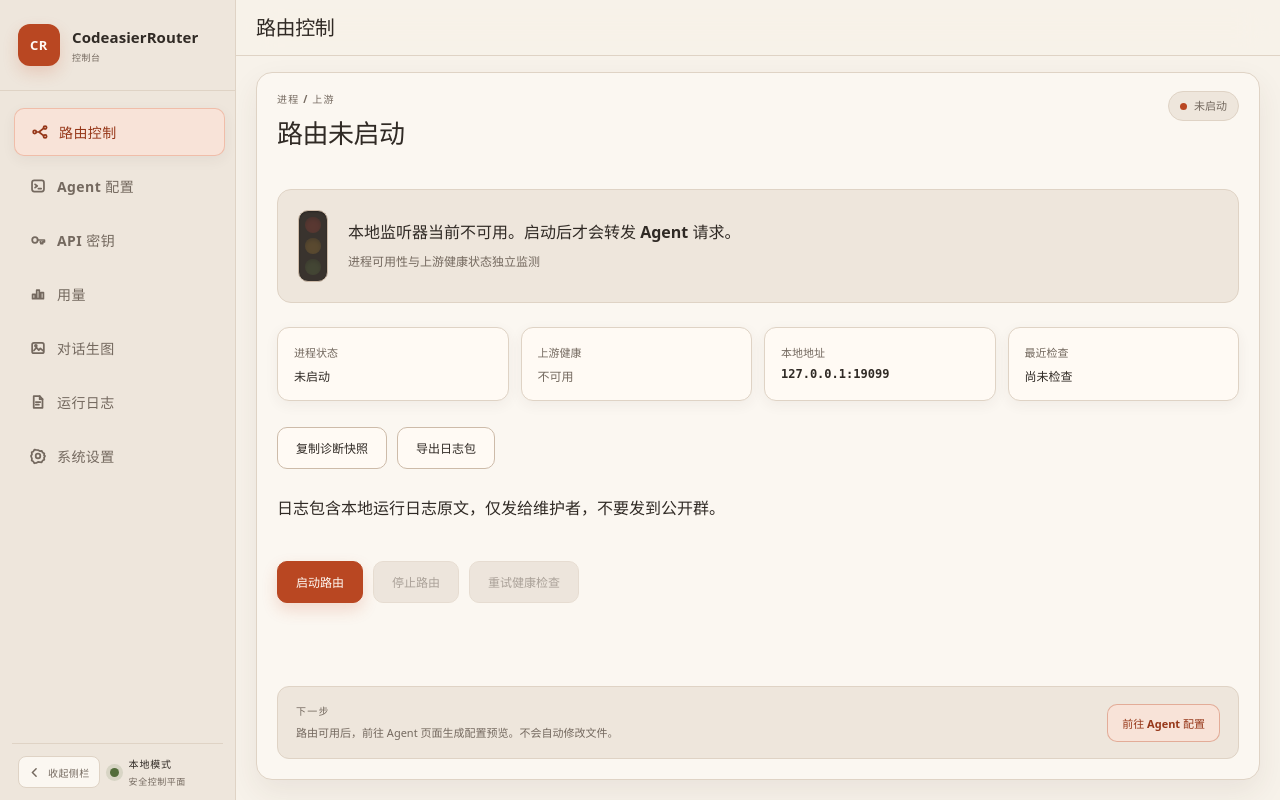
Test case: SettingsPage › shows one application version and application locations without sensitive controls
Click the button "系统设置".
click(118, 456)  # box top-left (12, 432), bottom-right (223, 480)
(page scrolled)
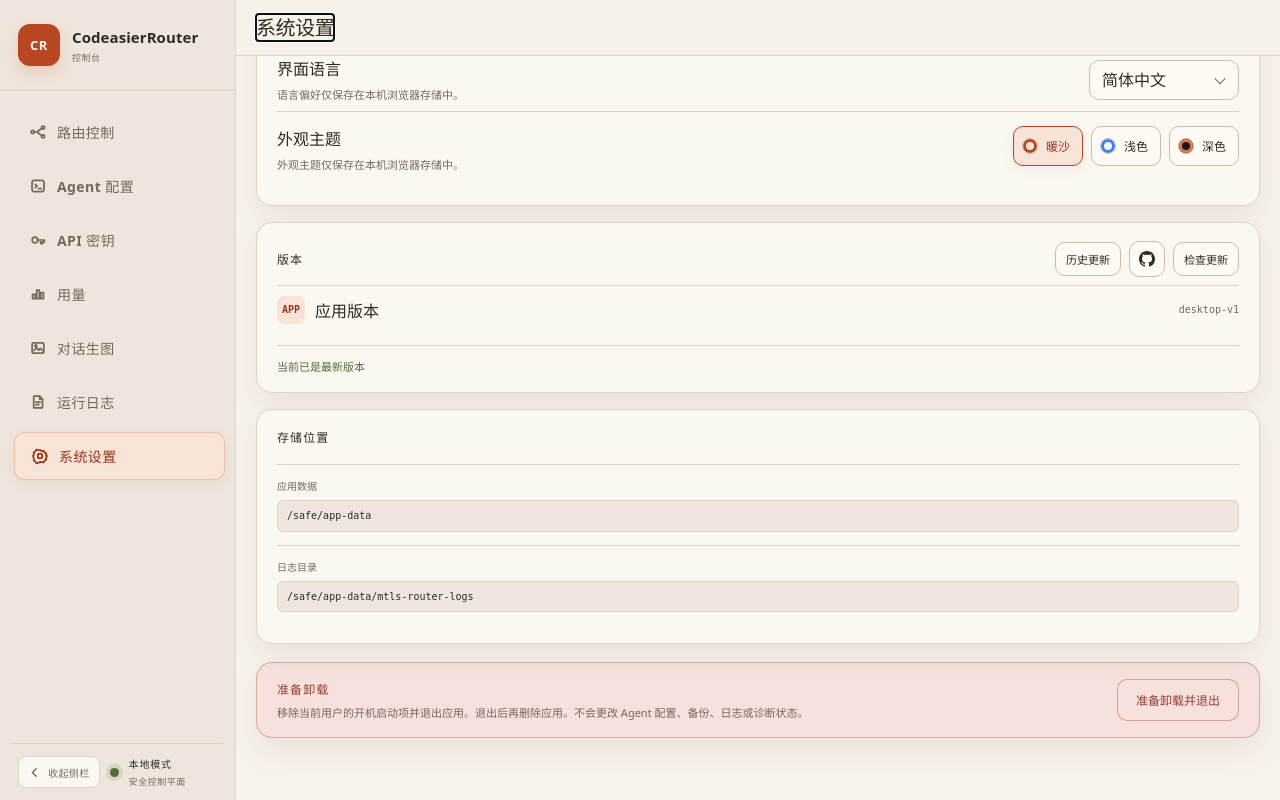
Expected: the number of list items is 1, top-left (277, 285), bottom-right (1239, 333)
Expected: the list item shows "应用版本", top-left (315, 300), bottom-right (379, 322)
Expected: the list item shows "desktop-v1", top-left (1179, 304), bottom-right (1239, 315)
